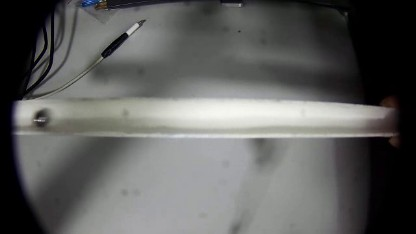gangzhu: (27, 107, 53, 127)
